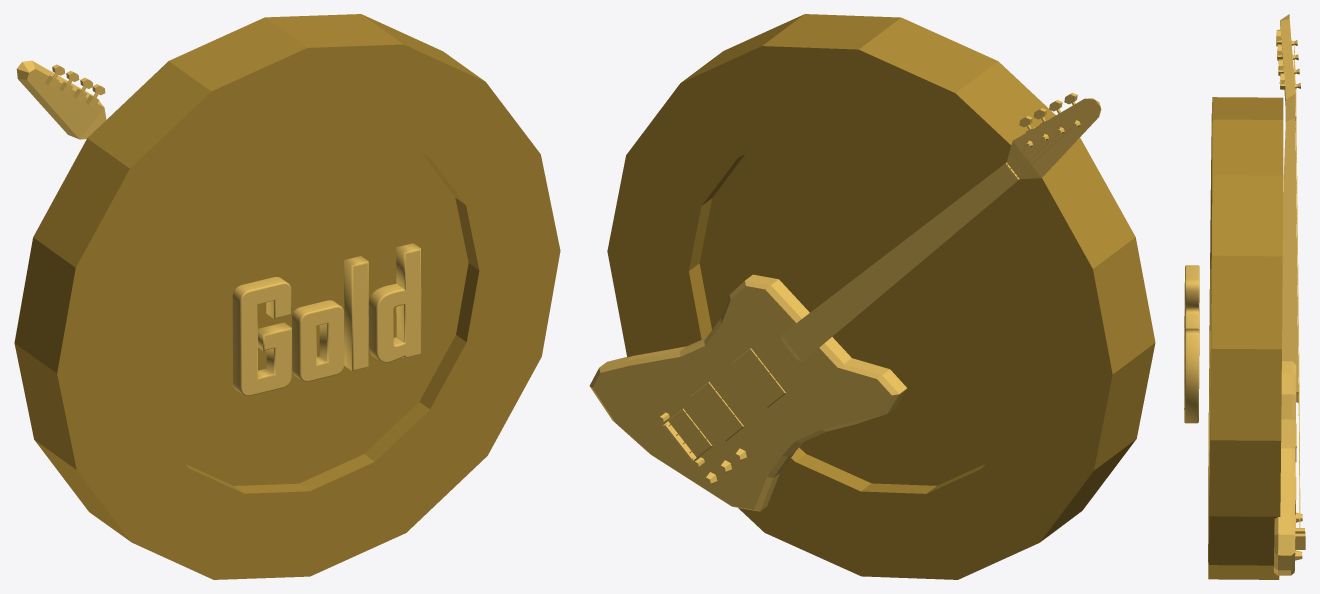
The model's file is Gold.glb.
The picture shows the model from 3 angles, left to right: view 1: azimuth 30°, elevation 25°; view 2: azimuth 150°, elevation 25°; view 3: azimuth 270°, elevation 25°; orthographic projection. The views are drawn at different scales.
Parts seen in each view (by area): view 1: Coin, Gold_Text, Bass Guitar; view 2: Coin, Bass Guitar; view 3: Coin, Bass Guitar, Gold_Text.
Part boxes in pixels (bbox=[...]): Coin: bbox=[14, 14, 560, 579]; Gold_Text: bbox=[232, 243, 421, 396]; Bass Guitar: bbox=[16, 60, 106, 139]; Coin: bbox=[607, 14, 1155, 579]; Bass Guitar: bbox=[589, 93, 1101, 511]; Coin: bbox=[1208, 97, 1283, 579]; Bass Guitar: bbox=[1273, 14, 1305, 575]; Gold_Text: bbox=[1184, 265, 1199, 423].
Bounding box in the file's own units: 1.01 × 1.01 × 0.2487.
